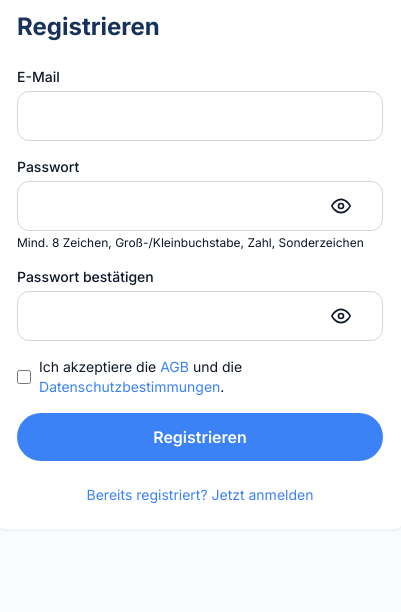
Scenario: RegisterForm › zeigt Validierungsfehler bei leerem Formular
Click the button "Registrieren" at (200, 437), box [17,413,383,461]
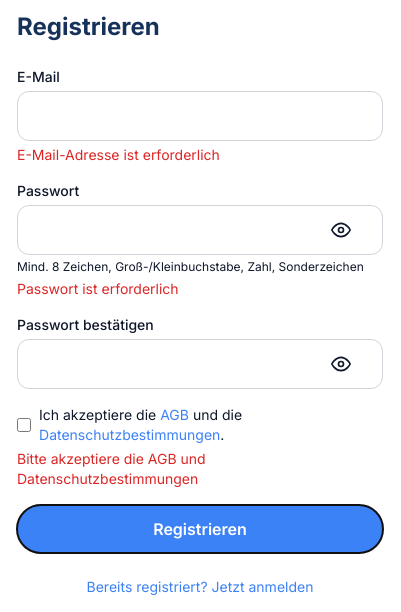
Now the text "E-Mail-Adresse ist erforderlich" is shown, box [17,146,220,163]
Now the text "Passwort ist erforderlich" is shown, box [17,280,179,297]
Now the text "Bitte akzeptiere die AGB und Datenschutzbestimmungen" is shown, box [17,450,206,487]
